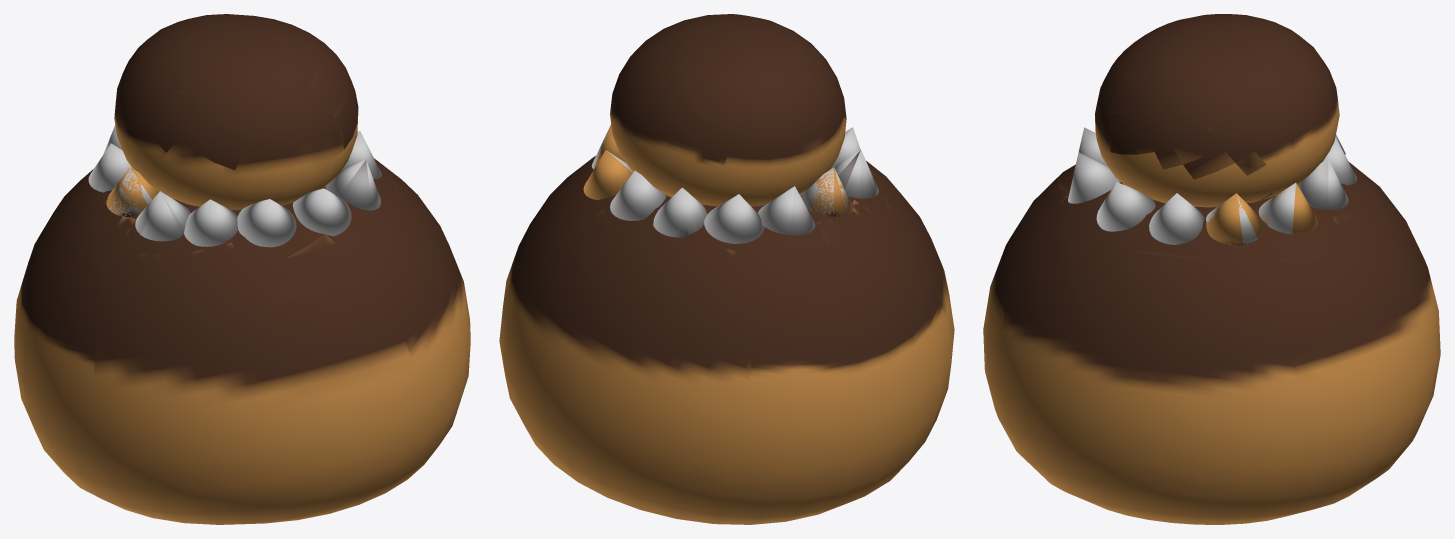
The model's file is religieuse_coin1.fbx.
3 renders of one model, left to right at view 1: azimuth 30°, elevation 25°; view 2: azimuth 150°, elevation 25°; view 3: azimuth 270°, elevation 25°, orthographic.
Visible parts, largest first — view 1: Sphere; view 2: Sphere; view 3: Sphere.
Part boxes in pixels (x1=…): Sphere: x1=14, y1=14, x2=470, y2=524; Sphere: x1=499, y1=14, x2=954, y2=524; Sphere: x1=983, y1=14, x2=1440, y2=524.
Bounding box in the file's own units: 299 × 317 × 299.
Materials: 1 (1 with a texture image).
